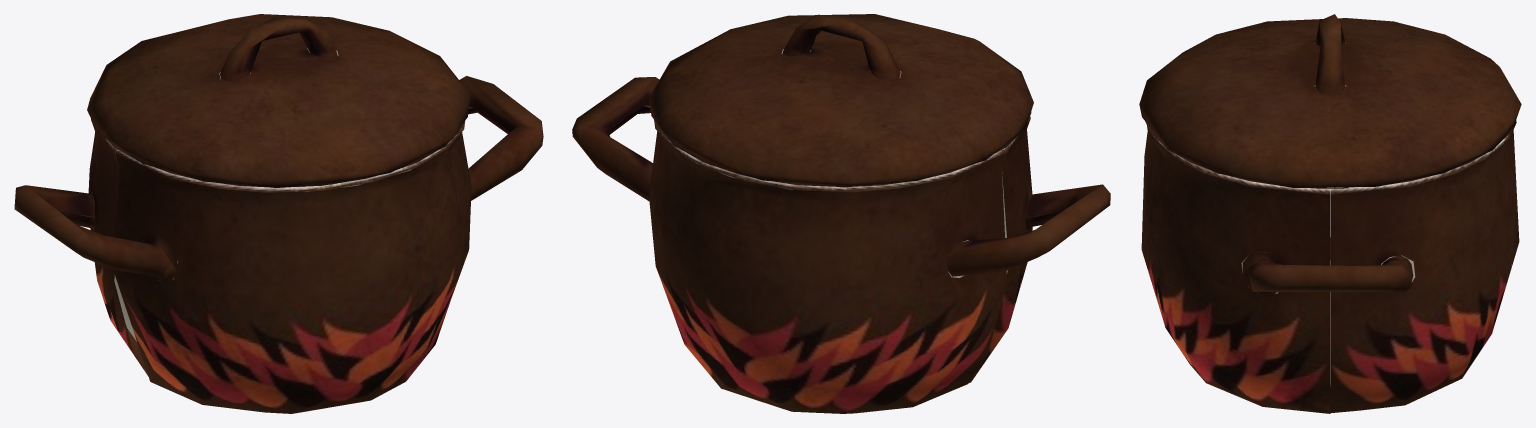
File: pot_enamel_01.gltf
The picture shows the model from 3 angles, left to right: view 1: azimuth 30°, elevation 25°; view 2: azimuth 150°, elevation 25°; view 3: azimuth 270°, elevation 25°; orthographic projection.
Parts seen in each view (by area): view 1: pot_enamel_01; view 2: pot_enamel_01; view 3: pot_enamel_01.
Boxes of the visible parts, x1,y1,x2,y2 form: pot_enamel_01: (14,14,543,413); pot_enamel_01: (572,14,1110,413); pot_enamel_01: (1139,14,1521,413).
Bounding box in the file's own units: 0.2631 × 0.1776 × 0.1823.
Materials: 1 (1 with a texture image).
